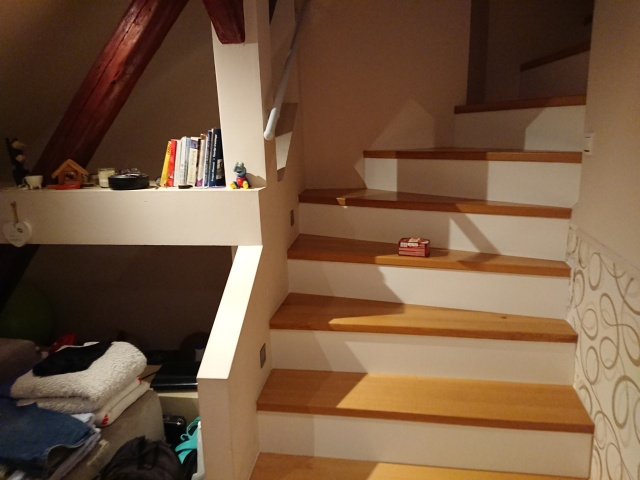Franck Apple Cinnamon Tea 60g: (395, 235, 432, 259)
